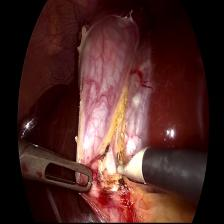Grasper: (17, 141, 95, 197)
Hook: (114, 146, 153, 185)
